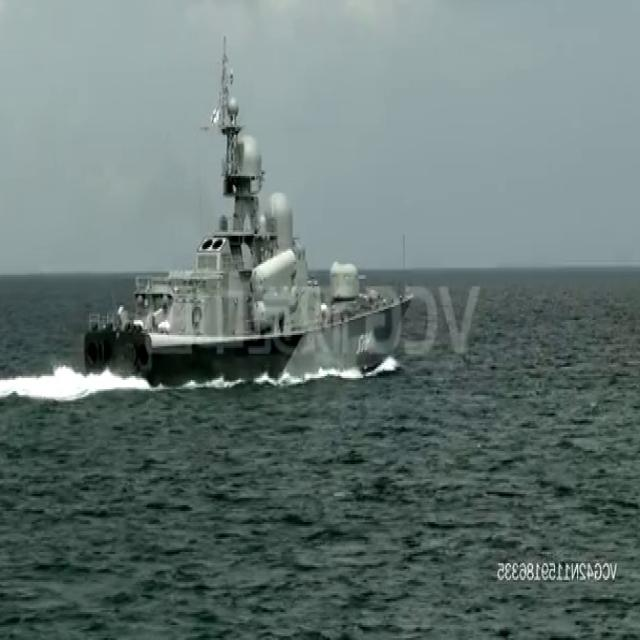navalvessels: (84, 34, 410, 385)
